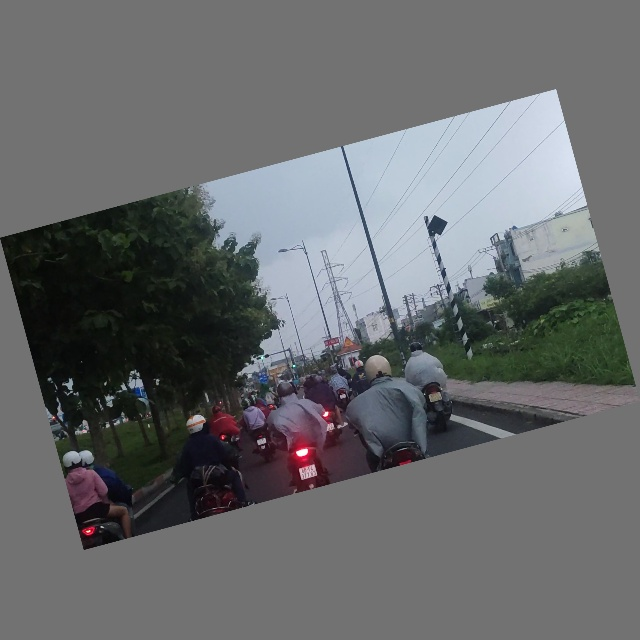W.210: (341, 336, 355, 349)
